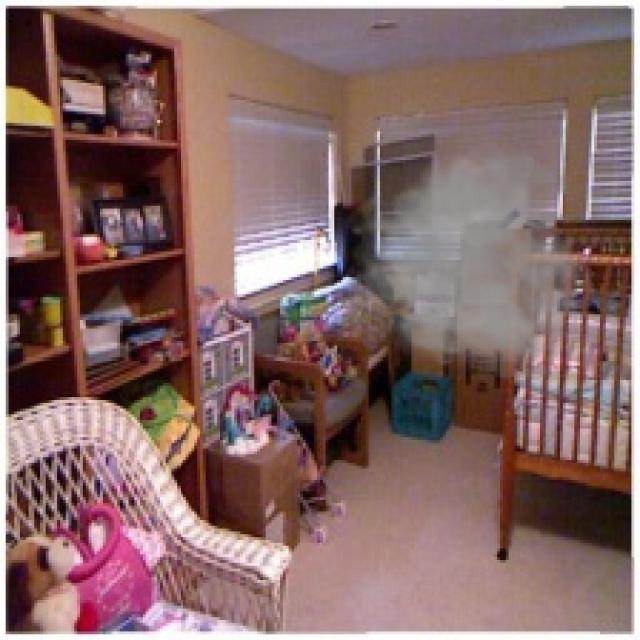smoke: (340, 132, 597, 377)
